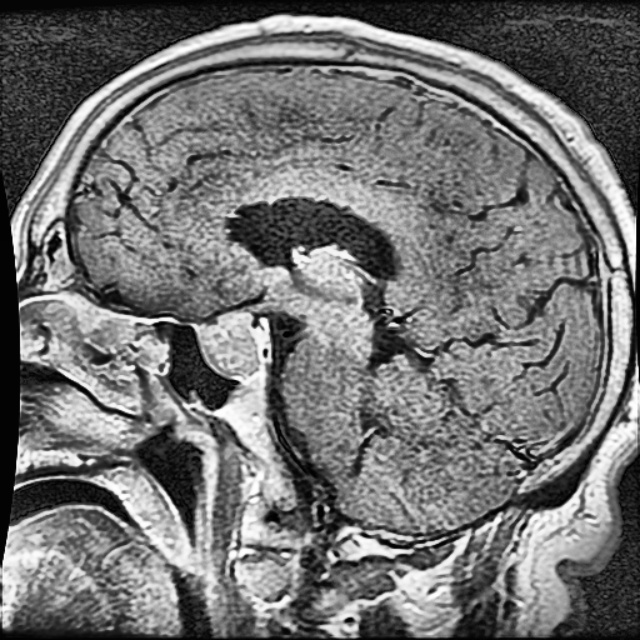Pituitary: (195, 313, 258, 379)
